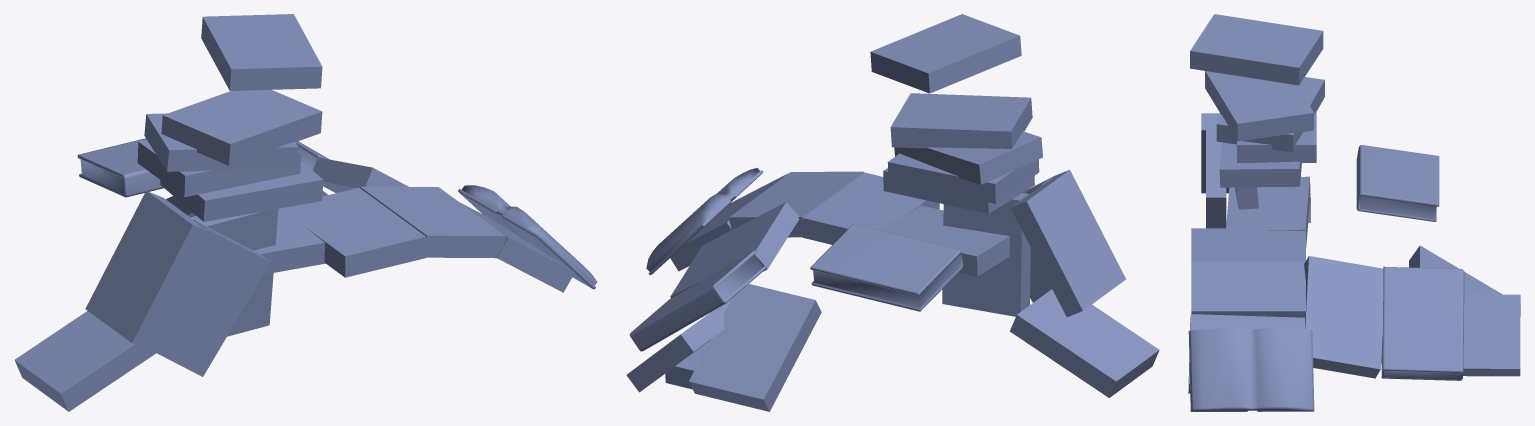
File: Book_Pile_09A_Lod0.fbx
3 views of the same model, side by side, from view 1: azimuth 30°, elevation 25°; view 2: azimuth 150°, elevation 25°; view 3: azimuth 270°, elevation 25° (orthographic). The views are drawn at different scales.
Visible parts, largest first — view 1: Book_Pile_09A_Lod0; view 2: Book_Pile_09A_Lod0; view 3: Book_Pile_09A_Lod0.
Part boxes in pixels (box(x1,y1,x2,y2)): Book_Pile_09A_Lod0: box(14, 14, 597, 411); Book_Pile_09A_Lod0: box(626, 14, 1159, 411); Book_Pile_09A_Lod0: box(1188, 14, 1520, 411).
Bounding box in the file's own units: 140 × 81.2 × 91.5.
